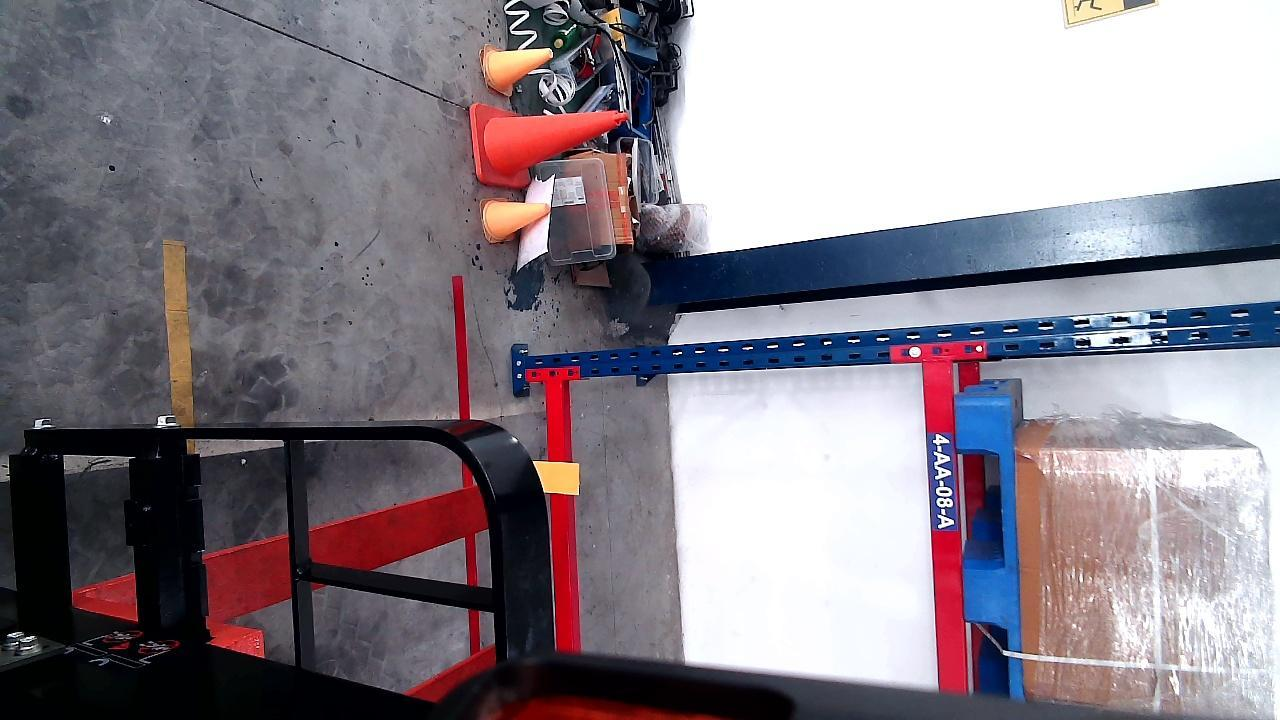red_line: (450, 275, 477, 663)
yellow_line: (165, 237, 195, 426)
